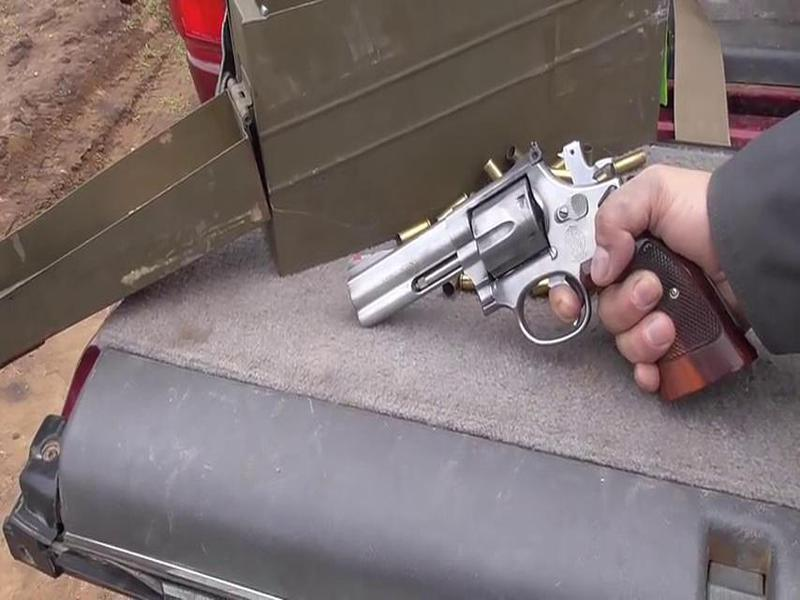Revolver: (287, 128, 766, 435)
